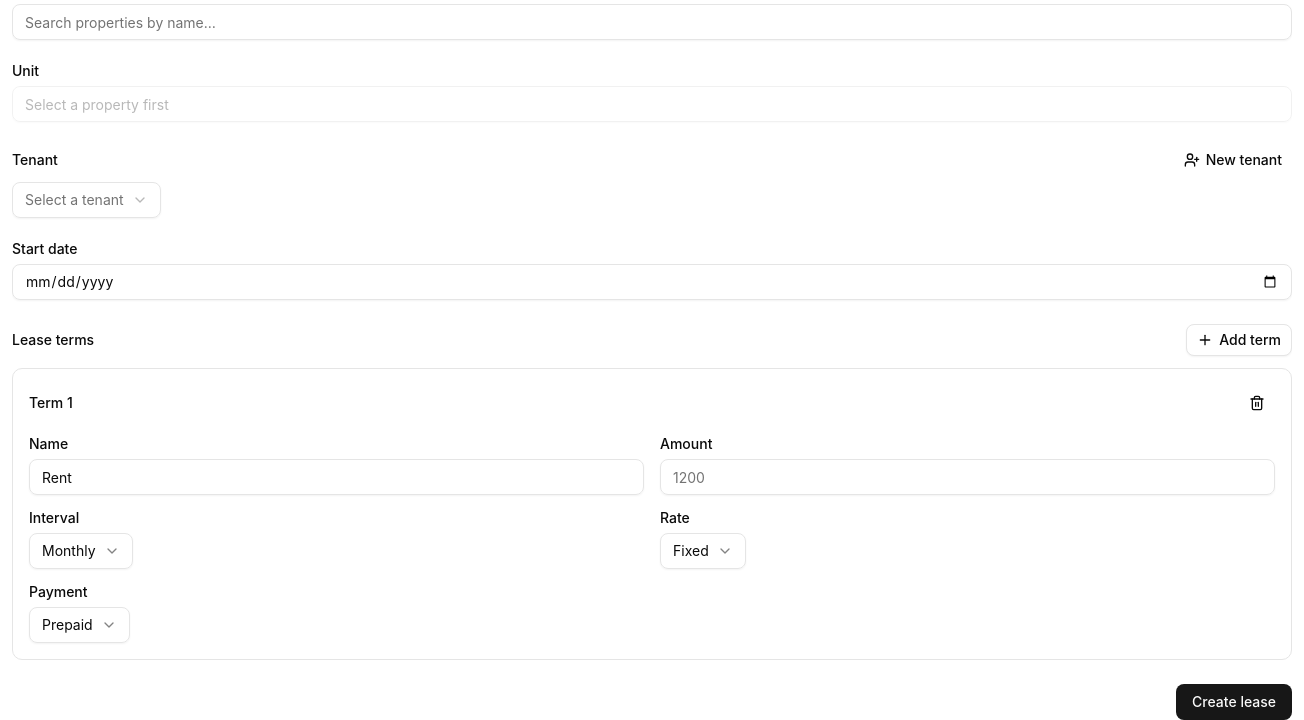
it: LeaseForm › blocks submit and shows validation errors when empty
This screenshot has width=1304, height=720.
(page scrolled)
Click the button "Create lease" at (1234, 702), box [1176,684,1292,719]
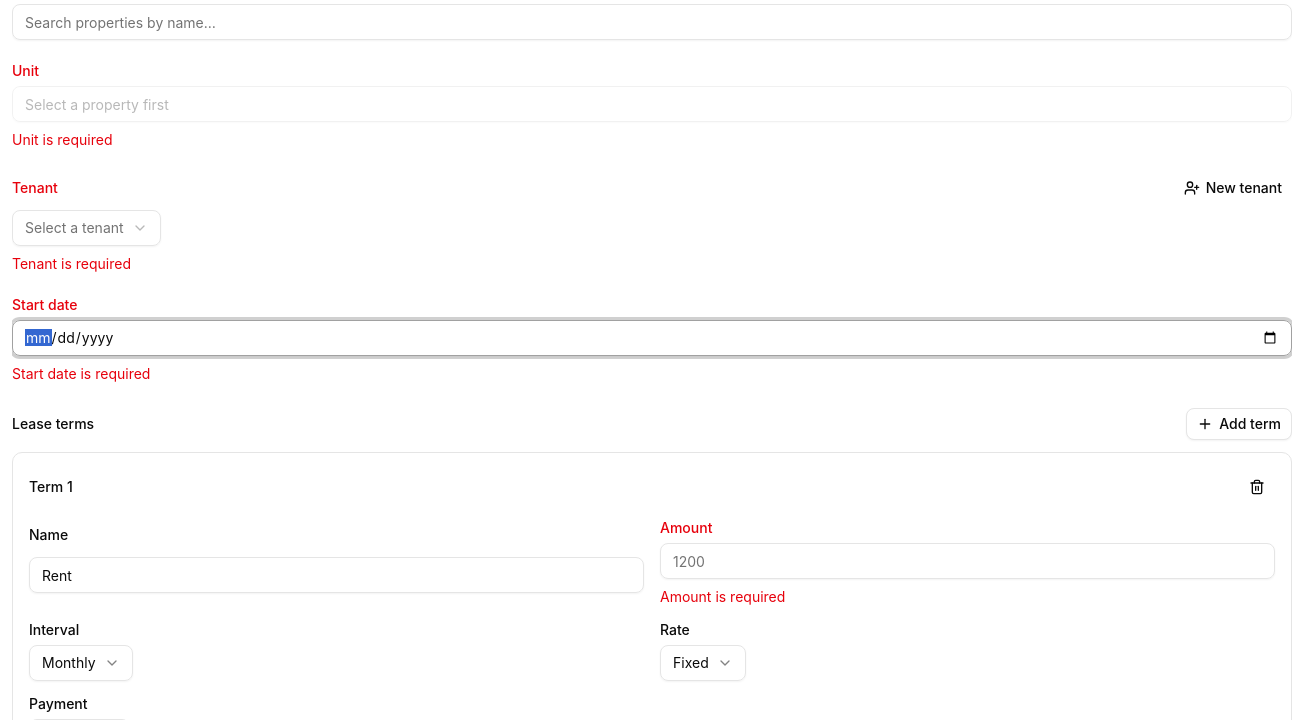
Result: the text "Unit is required" is shown at [12,131,112,148]
Result: the text "Tenant is required" is shown at [12,255,131,272]
Result: the text "Start date is required" is shown at [12,365,150,382]
